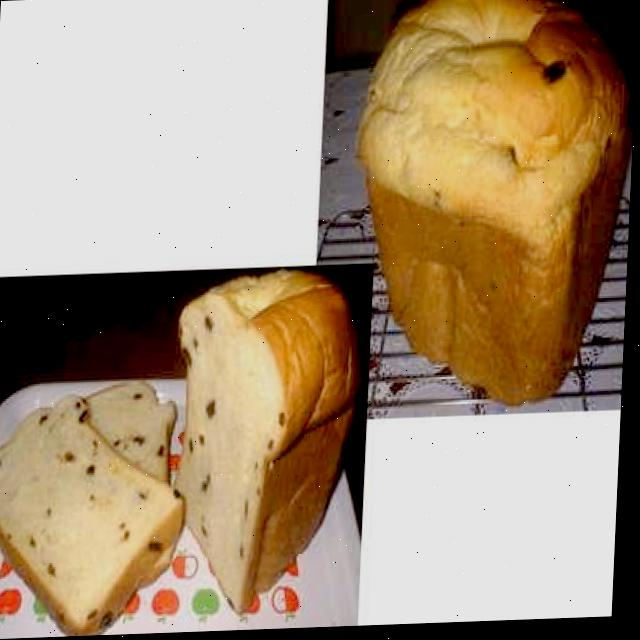面包点心: (0, 333, 254, 640)
